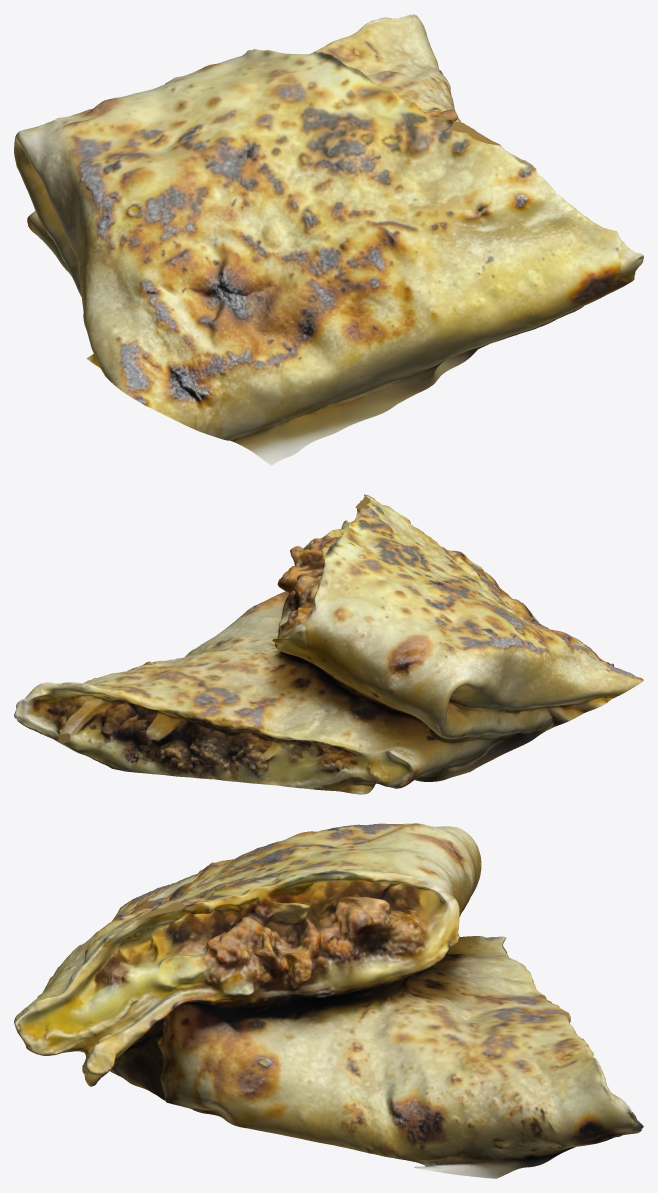
The picture shows the model from 3 angles, top to bottom: view 1: azimuth 30°, elevation 25°; view 2: azimuth 150°, elevation 25°; view 3: azimuth 270°, elevation 25°; orthographic projection. The views are drawn at different scales.
Parts seen in each view (by area): view 1: 3DModel; view 2: 3DModel; view 3: 3DModel.
Boxes of the visible parts, <box> form: 3DModel: <box>14,14,643,465</box>; 3DModel: <box>14,494,643,794</box>; 3DModel: <box>14,823,643,1178</box>.
Size of the model in its own units: 0.4597 by 0.2046 by 0.4906.
1 material, 1 textured.
